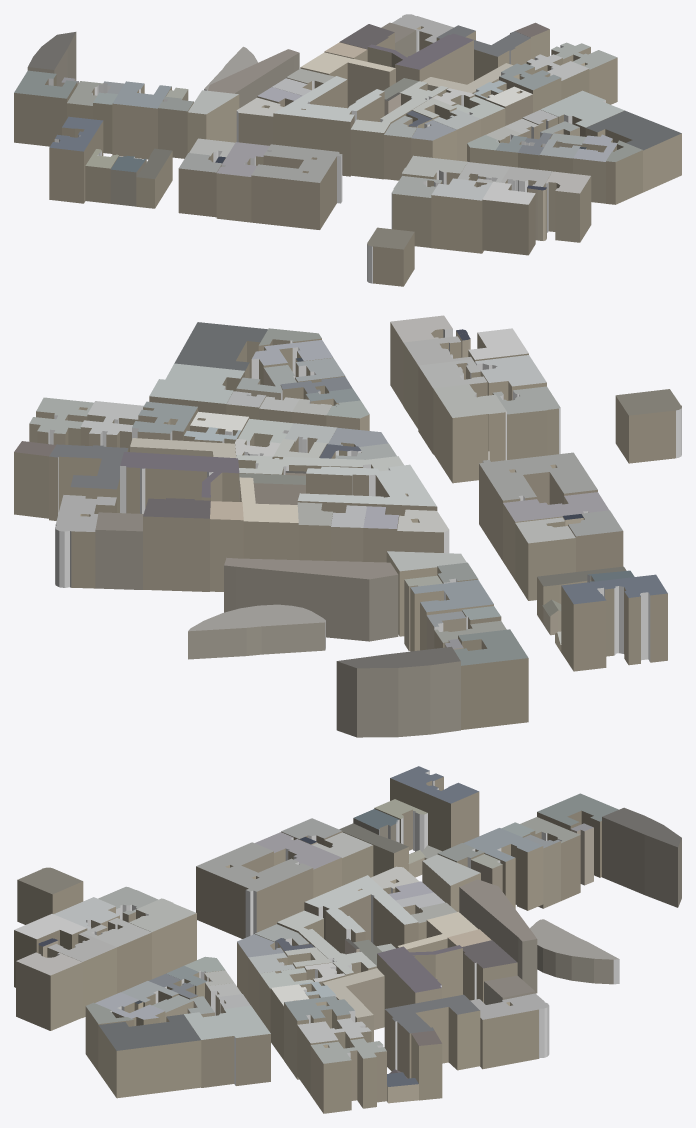
The picture shows the model from 3 angles, top to bottom: view 1: azimuth 30°, elevation 25°; view 2: azimuth 150°, elevation 25°; view 3: azimuth 270°, elevation 25°; orthographic projection. The views are drawn at different scales.
Visible parts, largest first — view 1: tuile; view 2: tuile; view 3: tuile.
Part boxes in pixels (x1,y1,x2,y2): tuile: [14, 14, 681, 286]; tuile: [14, 315, 681, 737]; tuile: [14, 766, 681, 1113].
Size of the model in its own units: 279 by 34.31 by 272.
